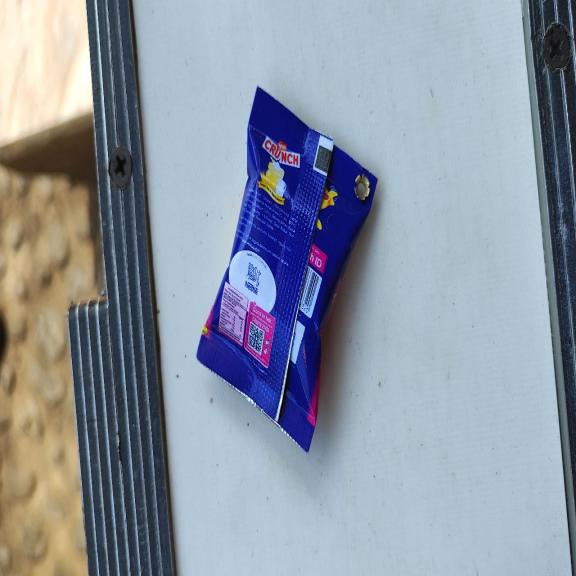Plastik: (195, 84, 377, 458)
